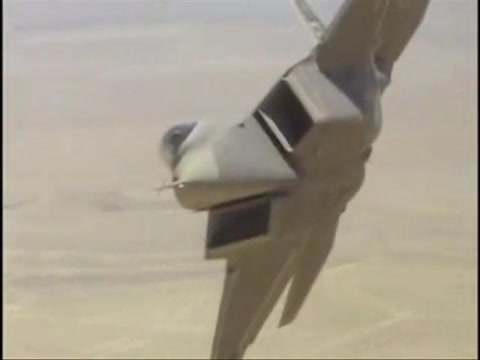aeroplane: (160, 3, 433, 360)
